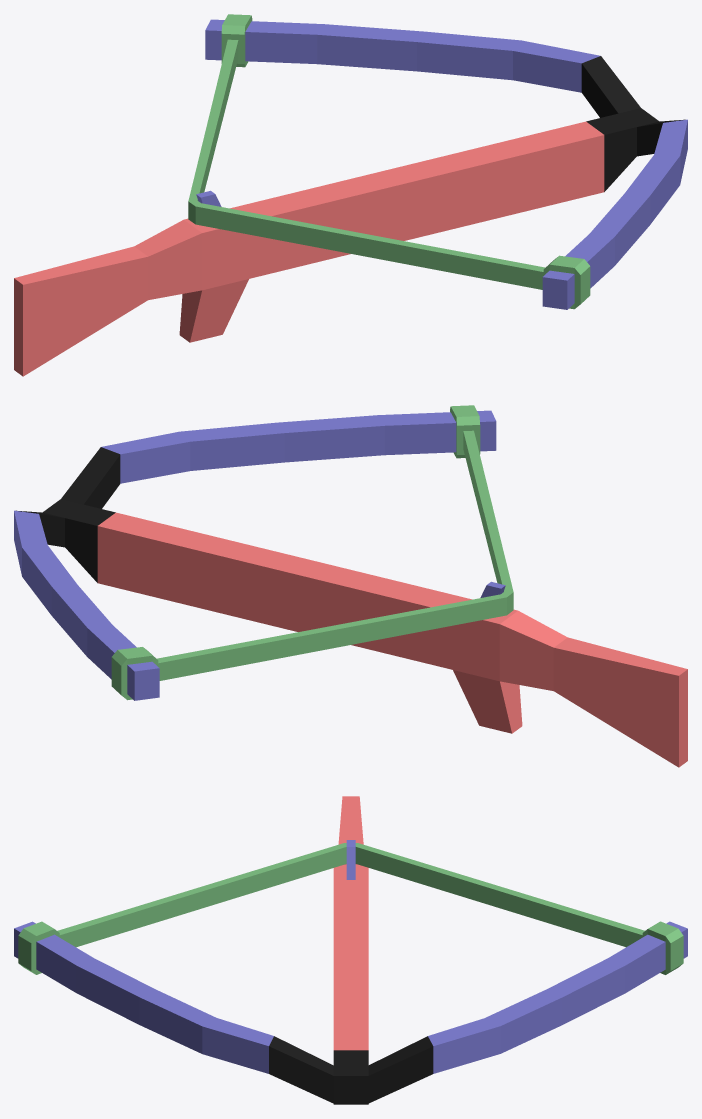
Rendered from Crossbow.fbx.
The picture shows the model from 3 angles, top to bottom: view 1: azimuth 30°, elevation 25°; view 2: azimuth 150°, elevation 25°; view 3: azimuth 270°, elevation 25°; orthographic projection. The views are drawn at different scales.
Parts seen in each view (by area): view 1: Crossbow; view 2: Crossbow; view 3: Crossbow.
Boxes of the visible parts, x1=… form: Crossbow: x1=14, y1=14, x2=687, y2=376; Crossbow: x1=14, y1=405, x2=687, y2=767; Crossbow: x1=14, y1=796, x2=687, y2=1104.
Bounding box in the file's own units: 22.22 × 4.87 × 21.72.
